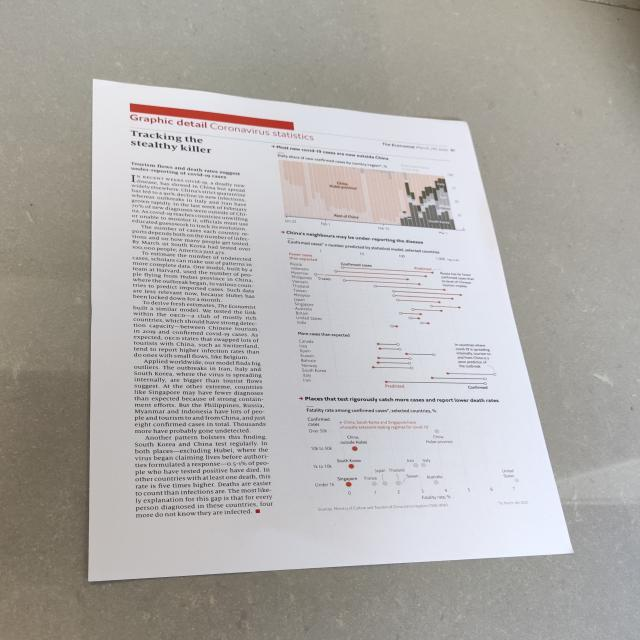document: (89, 80, 571, 581)
